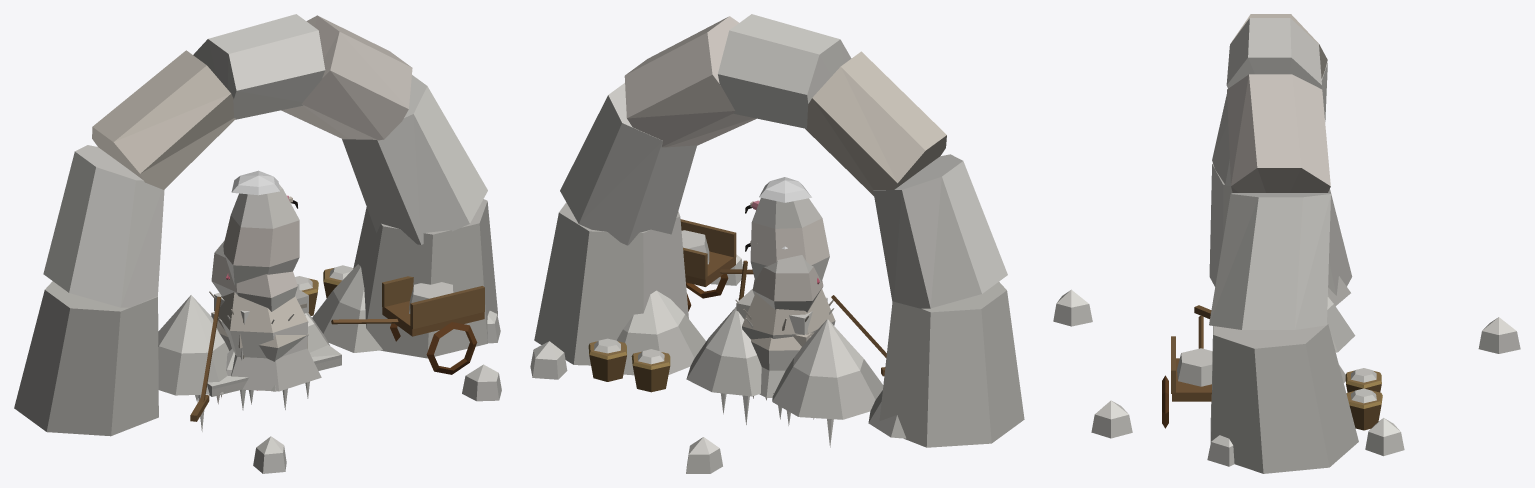
File: saltflats.glb
3 views of the same model, side by side, from view 1: azimuth 30°, elevation 25°; view 2: azimuth 150°, elevation 25°; view 3: azimuth 270°, elevation 25° (orthographic). The views are drawn at different scales.
Parts seen in each view (by area): view 1: saltflats_salt_arch_a, saltflats_salt_harvest_a, saltflats_salt_pillar_b, saltflats_salt_pillar_a, saltflats_salt_crust_lip_b, saltflats_salt_crust_lip_a; view 2: saltflats_salt_arch_a, saltflats_salt_harvest_a, saltflats_salt_pillar_b, saltflats_salt_pillar_a, saltflats_salt_bricks_b; view 3: saltflats_salt_arch_a, saltflats_salt_harvest_a.
Part boxes in pixels (x1,y1,x2,y2): saltflats_salt_arch_a: (14,14,501,473); saltflats_salt_harvest_a: (158,264,484,421); saltflats_salt_pillar_b: (218,170,321,391); saltflats_salt_pillar_a: (211,240,308,391); saltflats_salt_crust_lip_b: (195,345,341,410); saltflats_salt_crust_lip_a: (198,358,341,431); saltflats_salt_arch_a: (530,14,1024,473); saltflats_salt_harvest_a: (588,219,906,438); saltflats_salt_pillar_b: (742,177,835,339); saltflats_salt_pillar_a: (751,246,823,397); saltflats_salt_bricks_b: (736,288,827,334); saltflats_salt_arch_a: (1053,14,1520,473); saltflats_salt_harvest_a: (1162,276,1382,430).
Bounding box in the file's own units: 3.17 × 2.6 × 2.87.
